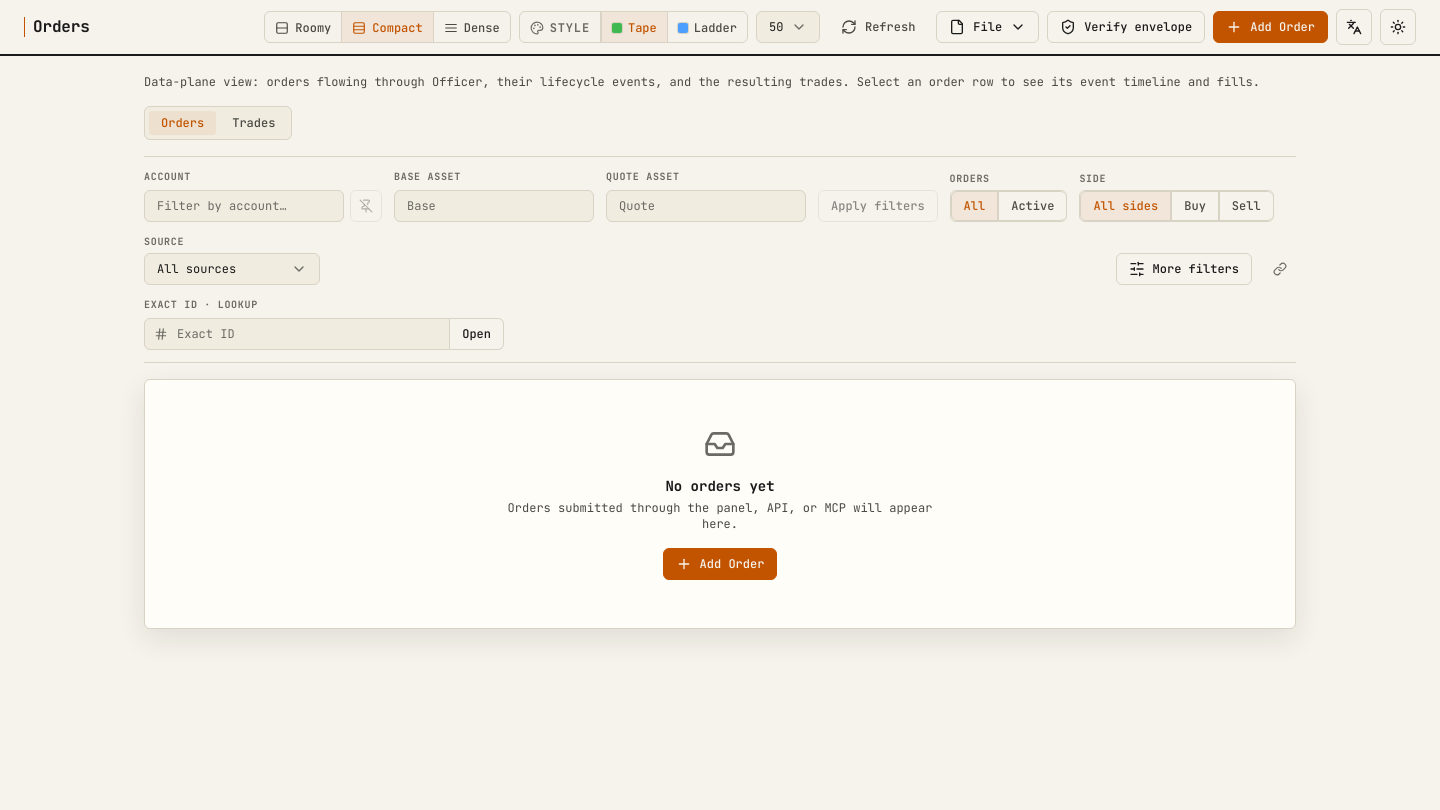
Orders page tabs › switches from orders to trades and back by clicking tabs
The image size is (1440, 810).
Expected: the panel "orders" shows "No orders yet", [665, 477, 775, 495]
Click the tab "Trades": (254, 123) [220, 111, 287, 135]
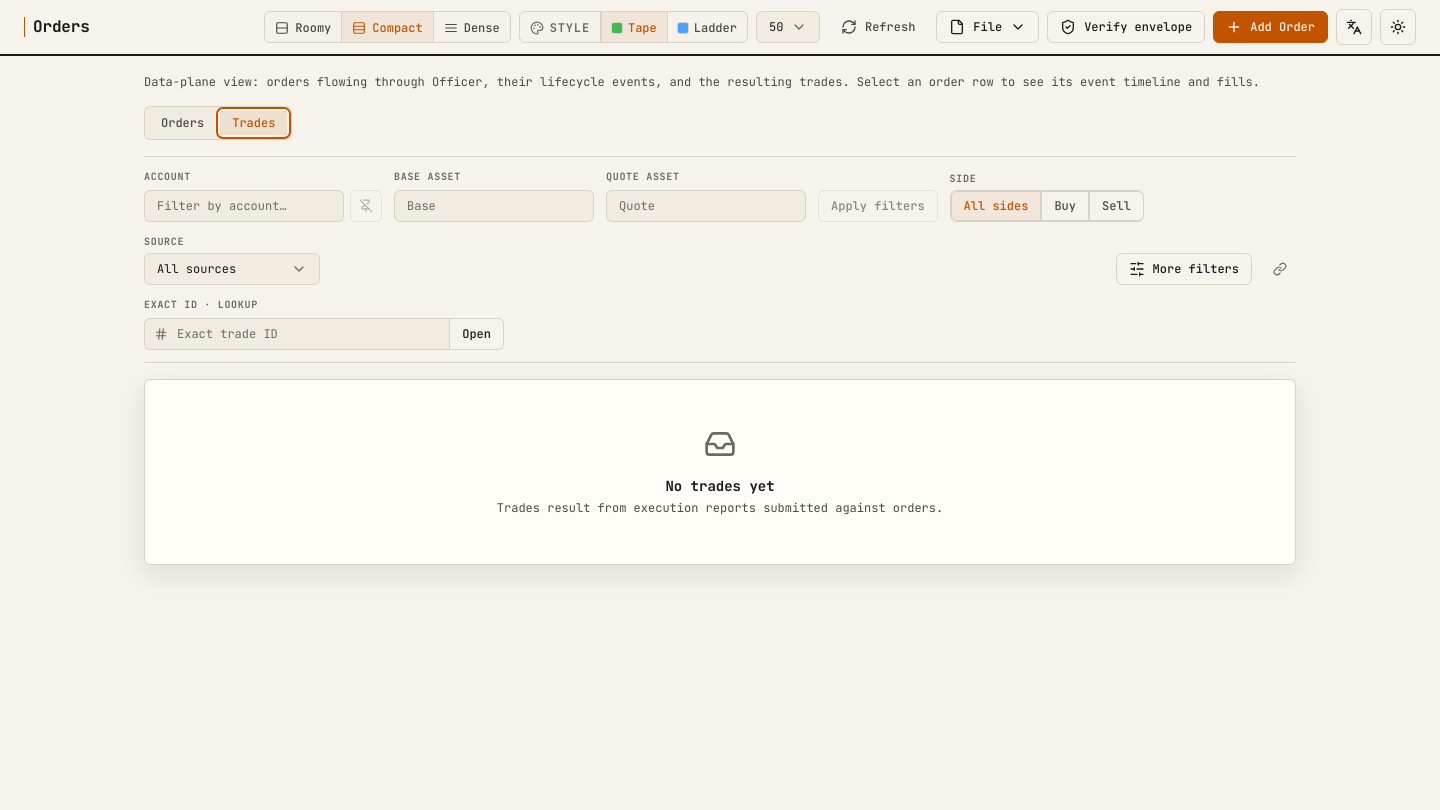
Expected: the panel "trades" shows "No trades yet", [665, 477, 775, 495]
Click the tab "Orders": (183, 123) [149, 111, 216, 135]
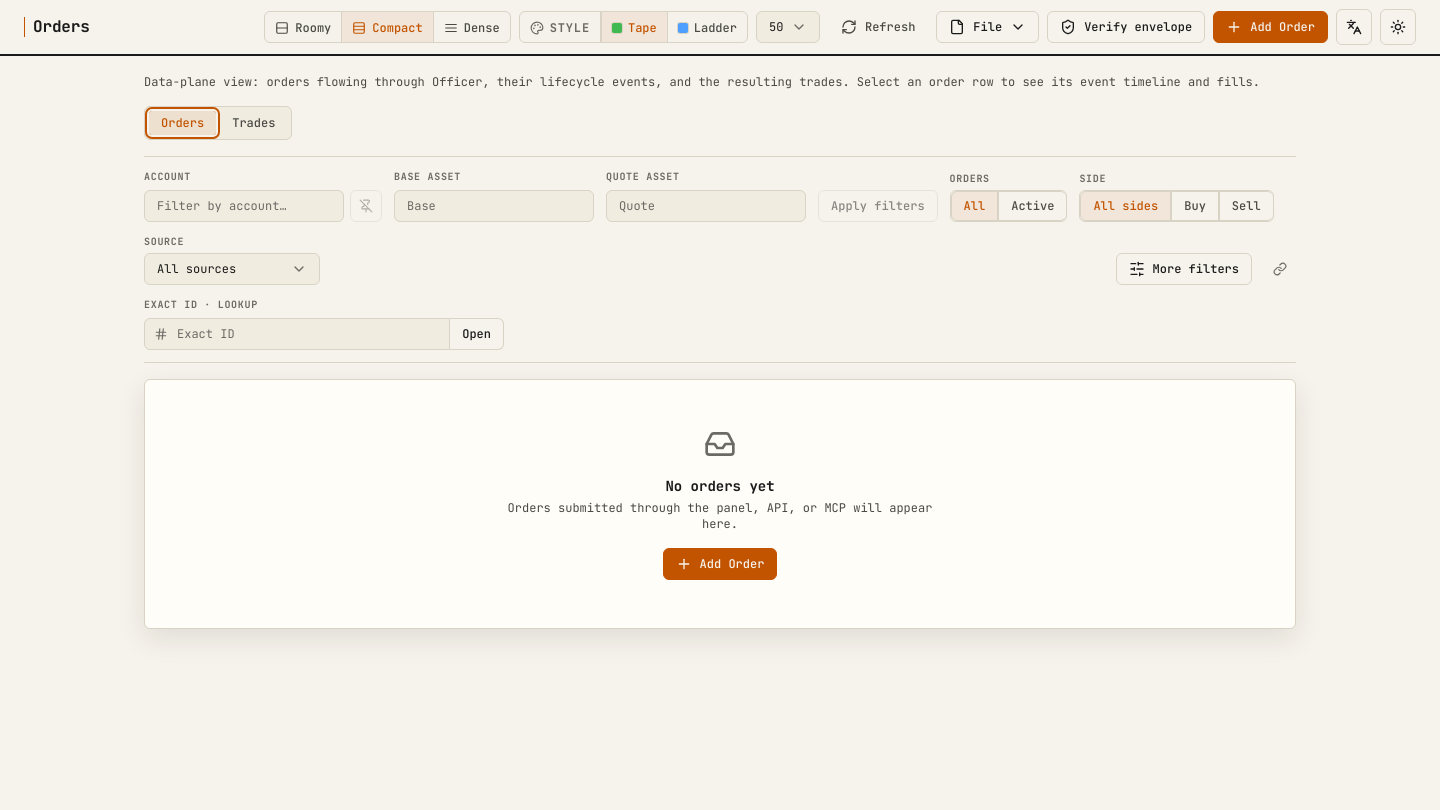
Expected: the panel "orders" shows "No orders yet", [665, 477, 775, 495]
